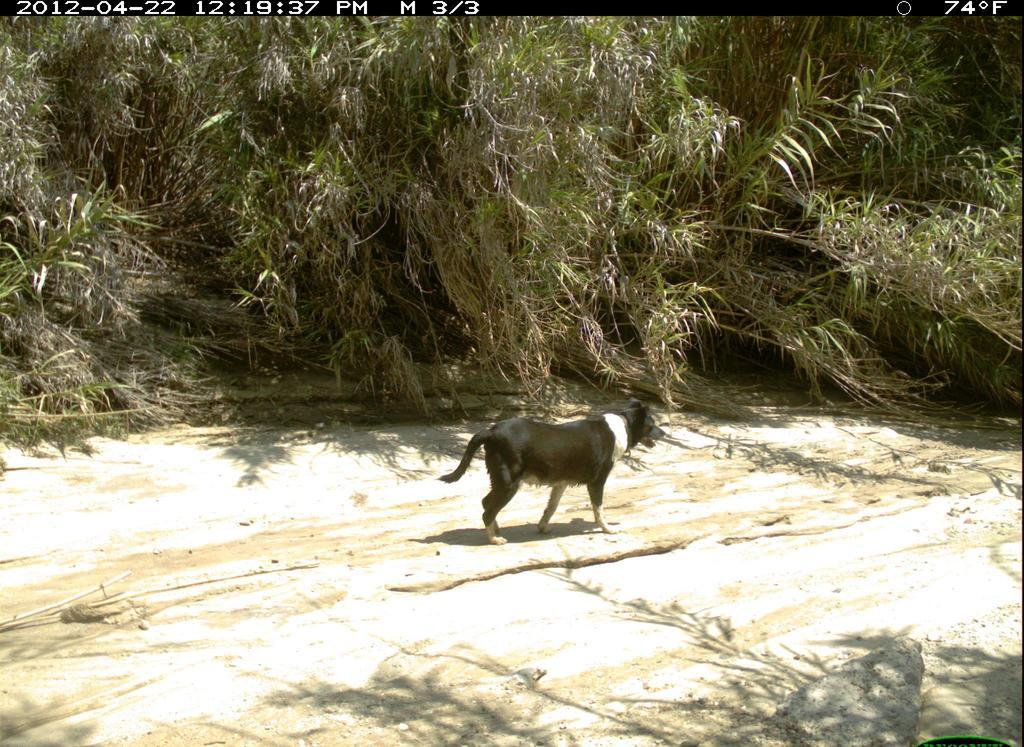dog: (439, 394, 681, 553)
